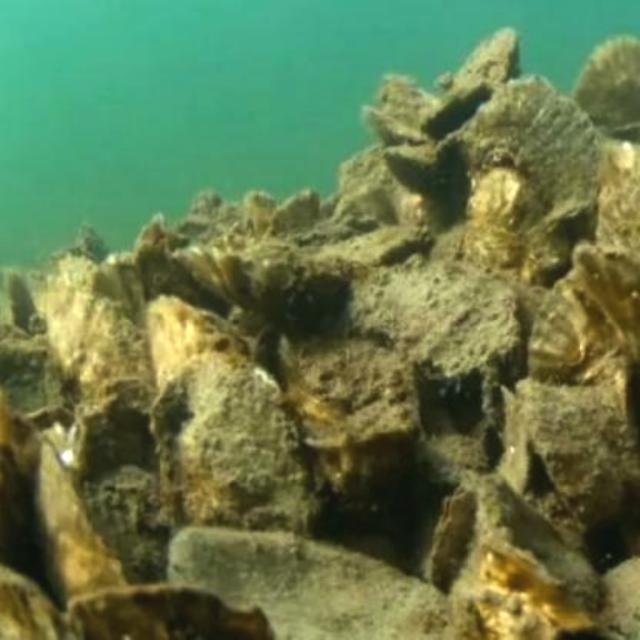Oyster-Closed: (166, 530, 468, 640), (158, 356, 323, 530), (467, 74, 596, 246), (520, 370, 640, 528), (276, 331, 419, 445), (34, 446, 134, 604), (348, 278, 507, 377), (179, 253, 348, 329), (66, 590, 271, 640), (529, 285, 621, 382), (566, 35, 640, 136), (572, 252, 640, 358), (144, 304, 231, 374), (0, 569, 63, 640), (419, 76, 493, 135), (447, 27, 520, 85), (385, 140, 453, 198)
